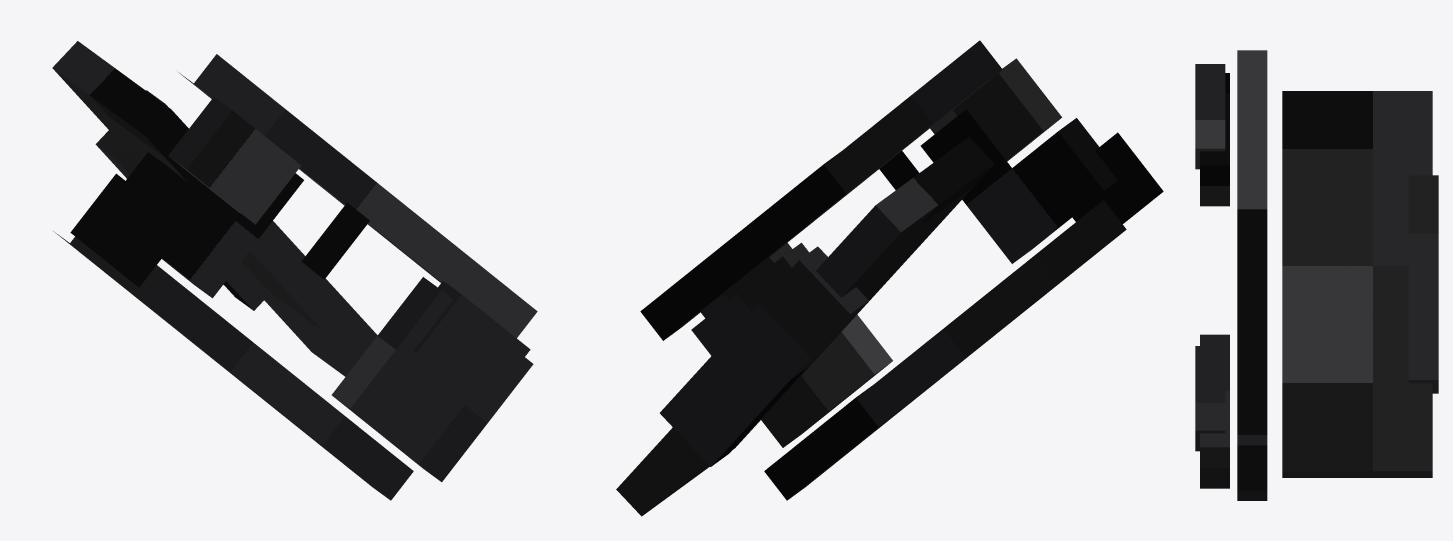
File: duffle_bag.obj
3 views of the same model, side by side, from view 1: azimuth 30°, elevation 25°; view 2: azimuth 150°, elevation 25°; view 3: azimuth 270°, elevation 25° (orthographic). The views are drawn at different scales.
Visible parts, largest first — view 1: bodyModel13, bodyModel2, bodyModel10, bodyModel11, bodyModel1, bodyModel5, bodyModel6, bodyModel0, bodyModel4, bodyModel12; view 2: bodyModel12, bodyModel10, bodyModel11, bodyModel13, bodyModel1, bodyModel2, bodyModel5, bodyModel0, bodyModel6, bodyModel4; view 3: bodyModel13, bodyModel10, bodyModel12, bodyModel5, bodyModel6, bodyModel2, bodyModel1, bodyModel11.
Boxes of the visible parts, <box> form: bodyModel13: <box>52,41,377,376</box>; bodyModel2: <box>331,277,533,481</box>; bodyModel10: <box>178,54,537,338</box>; bodyModel11: <box>53,231,413,500</box>; bodyModel1: <box>116,152,303,298</box>; bodyModel5: <box>168,97,301,224</box>; bodyModel6: <box>413,281,530,408</box>; bodyModel0: <box>70,173,161,287</box>; bodyModel4: <box>301,202,369,279</box>; bodyModel12: <box>95,90,266,310</box>; bodyModel12: <box>660,246,868,466</box>; bodyModel10: <box>640,40,1002,340</box>; bodyModel11: <box>764,200,1126,500</box>; bodyModel13: <box>616,137,994,516</box>; bodyModel1: <box>920,109,1117,263</box>; bodyModel2: <box>691,242,892,447</box>; bodyModel5: <box>930,58,1061,161</box>; bodyModel0: <box>1072,132,1163,223</box>; bodyModel6: <box>701,243,792,318</box>; bodyModel4: <box>879,151,918,189</box>; bodyModel13: <box>1282,91,1432,477</box>; bodyModel10: <box>1237,50,1267,445</box>; bodyModel12: <box>1408,175,1438,393</box>; bodyModel5: <box>1195,64,1225,169</box>; bodyModel6: <box>1195,346,1225,451</box>; bodyModel2: <box>1200,334,1229,488</box>; bodyModel1: <box>1200,73,1229,206</box>; bodyModel11: <box>1237,445,1267,500</box>.
Bounding box in the file's own units: 15.56 × 15.56 × 8.2.
